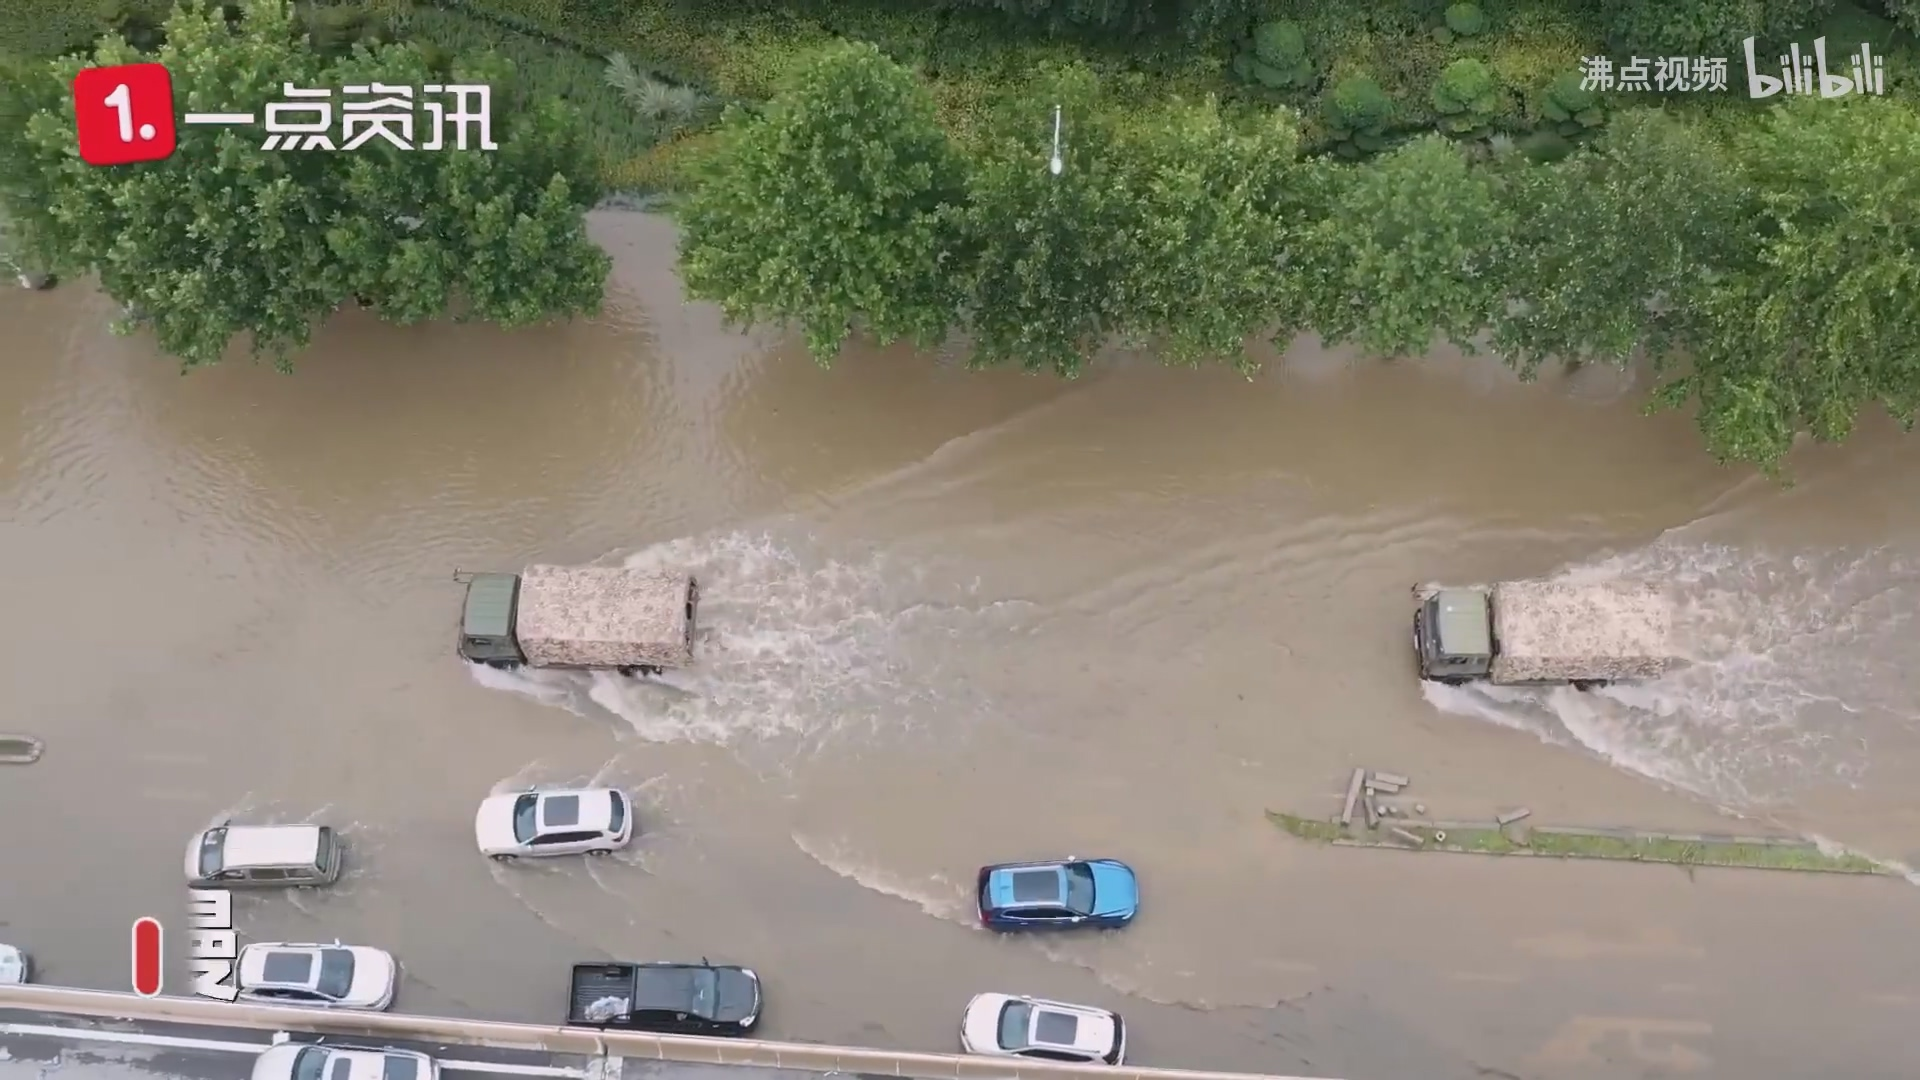puddle: (16, 282, 1874, 1064)
